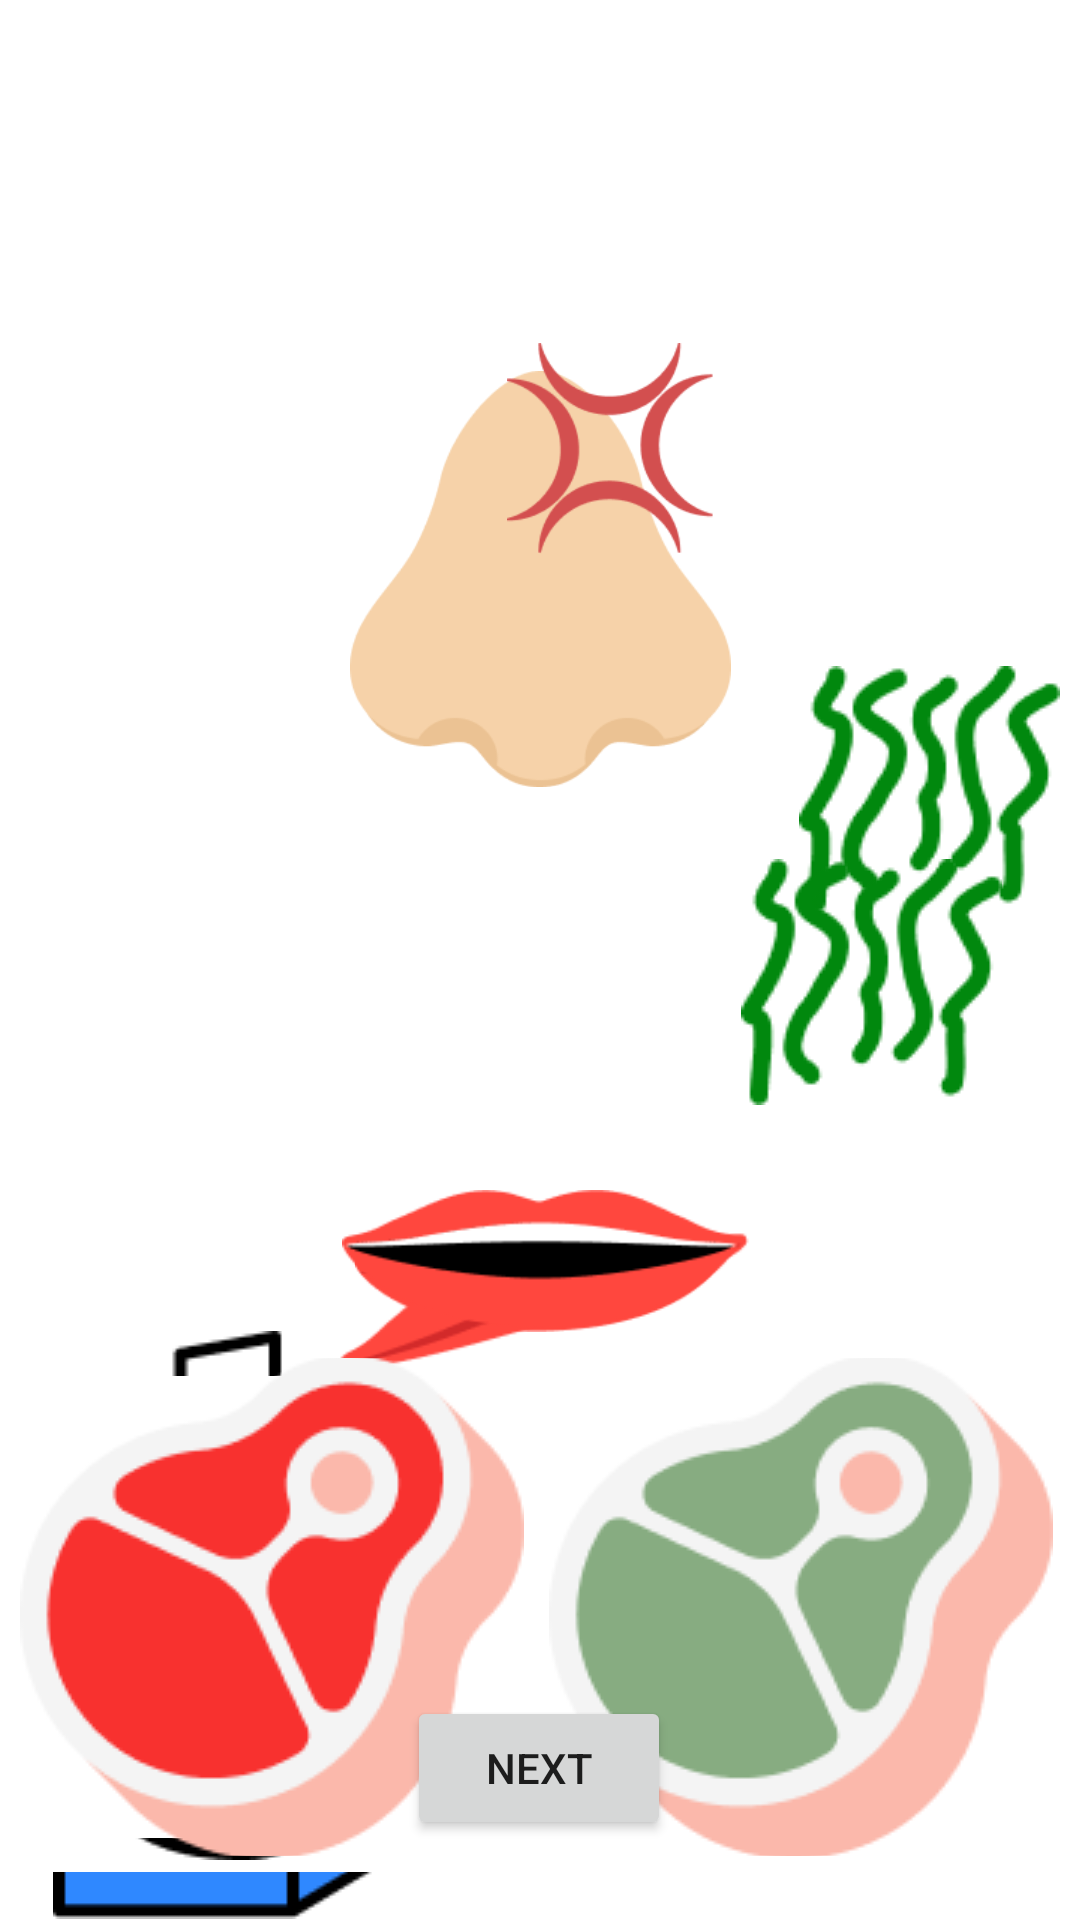

Locate icon controls on the screen. Image size 1080px x 1920px, boxes as (x1, y1, x2, y2).
stank: (799, 666, 1060, 912), (741, 859, 1002, 1105)
